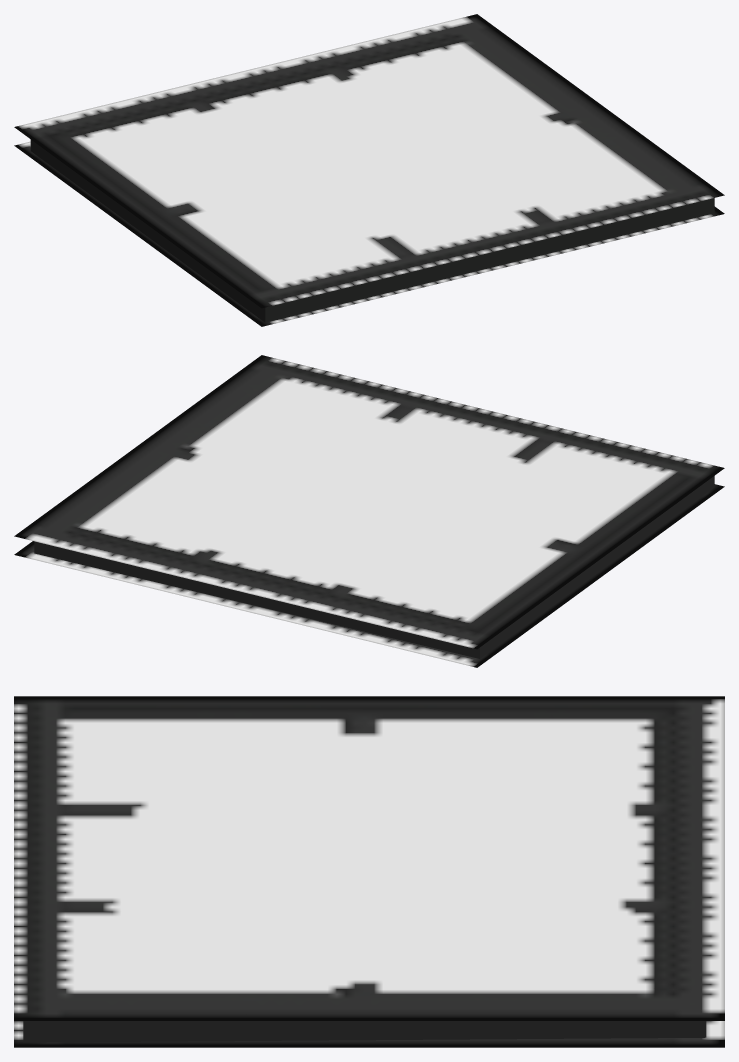
The model's file is pz_native_fixtures_windows_metal_115_frame.obj.
3 renders of one model, top to bottom at view 1: azimuth 30°, elevation 25°; view 2: azimuth 150°, elevation 25°; view 3: azimuth 270°, elevation 25°, orthographic. The views are drawn at different scales.
Parts seen in each view (by area): view 1: pz_native_fixtures_windows_metal_115_frame; view 2: pz_native_fixtures_windows_metal_115_frame; view 3: pz_native_fixtures_windows_metal_115_frame.
Part boxes in pixels (bbox=[...]): pz_native_fixtures_windows_metal_115_frame: bbox=[14, 14, 724, 326]; pz_native_fixtures_windows_metal_115_frame: bbox=[14, 355, 724, 667]; pz_native_fixtures_windows_metal_115_frame: bbox=[14, 696, 724, 1047].
Size of the model in its own units: 1.05 by 0.04 by 0.9696.
1 material, 1 textured.
